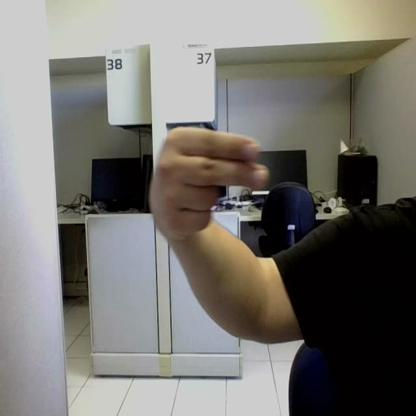H: (152, 127, 268, 242)
